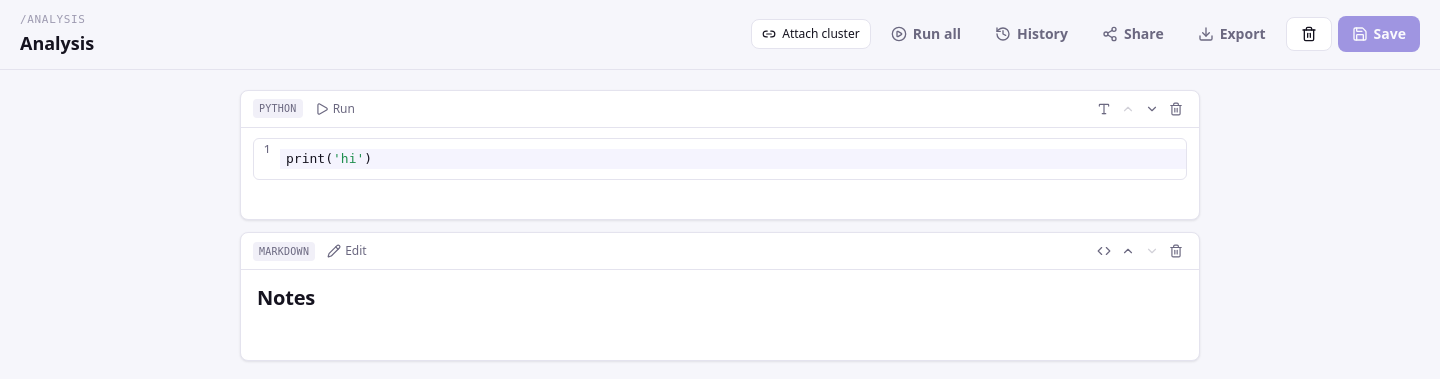
Test: NotebookEditor — cell editing › reorders cells: moving cell 2 up puts markdown above code
Expected: the heading "Analysis" is shown, [20, 28, 94, 56]
Expected: the button with aria-label "edit markdown cell 2" is shown, [321, 239, 373, 263]
Click the button named "move cell 2 up".
click(1128, 251)  # box [1117, 240, 1139, 262]
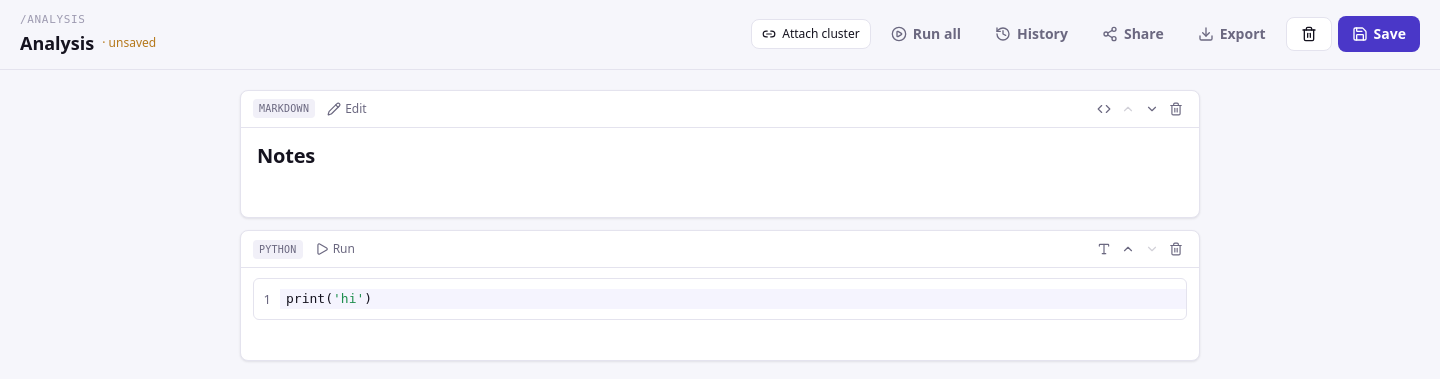
Expected: the button with aria-label "edit markdown cell 1" is shown, [321, 96, 373, 120]
